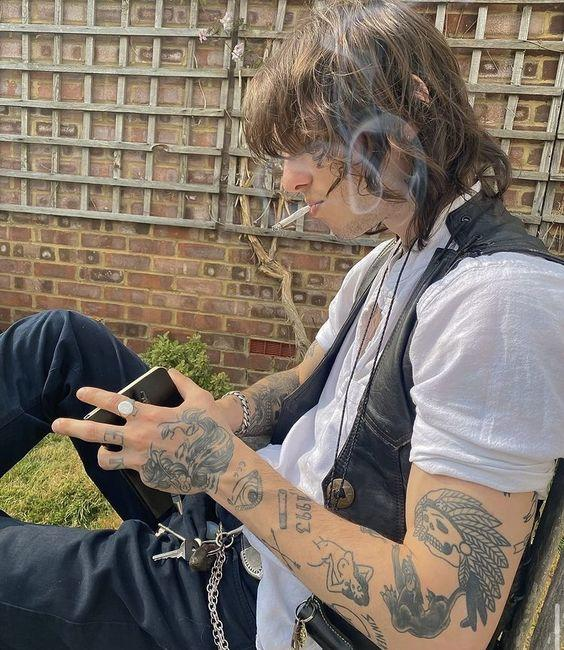cigarette: (272, 204, 311, 232)
